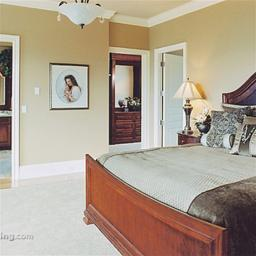Cama: (87, 102, 253, 251)
